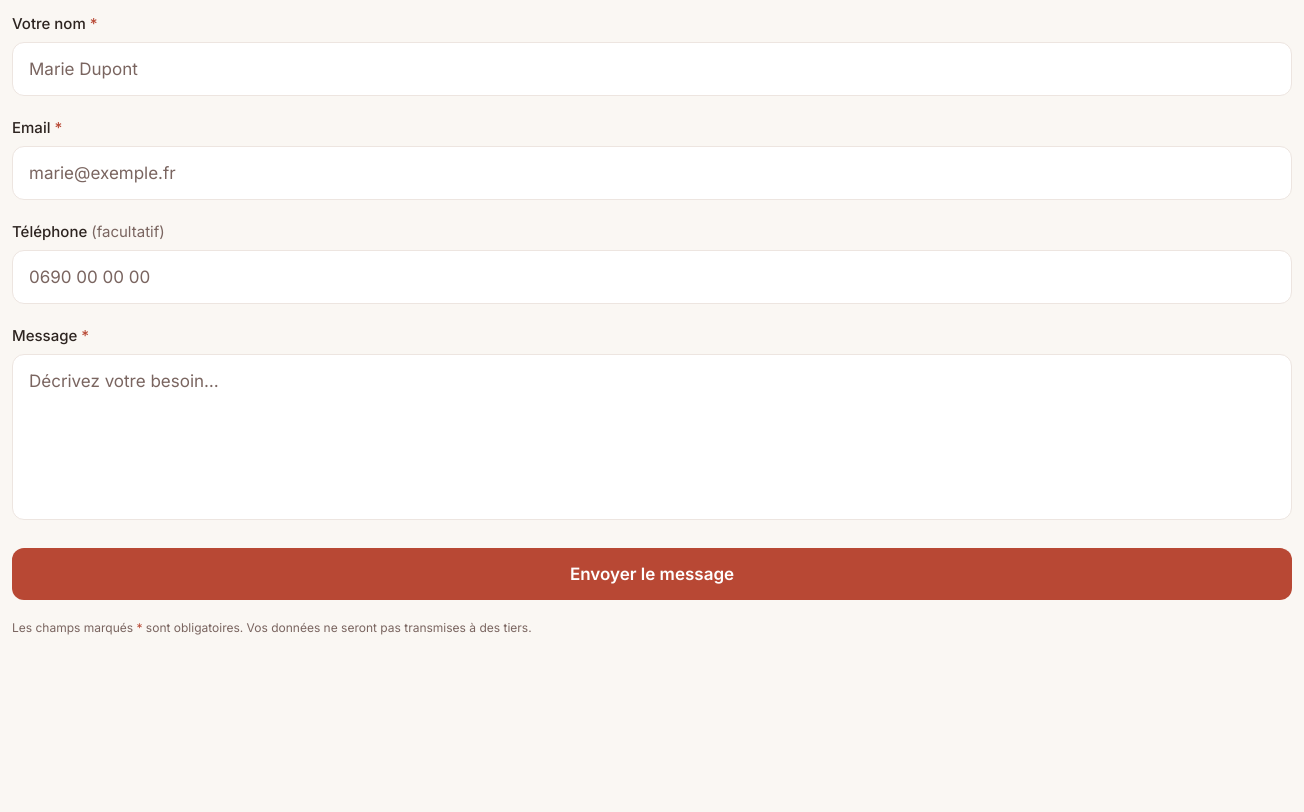
Test: ContactForm — validation côté client › affiche les erreurs si on soumet le formulaire vide
The width and height of the screenshot is (1304, 812).
Click the button "Envoyer le message".
click(652, 574)  # box [12, 548, 1292, 600]
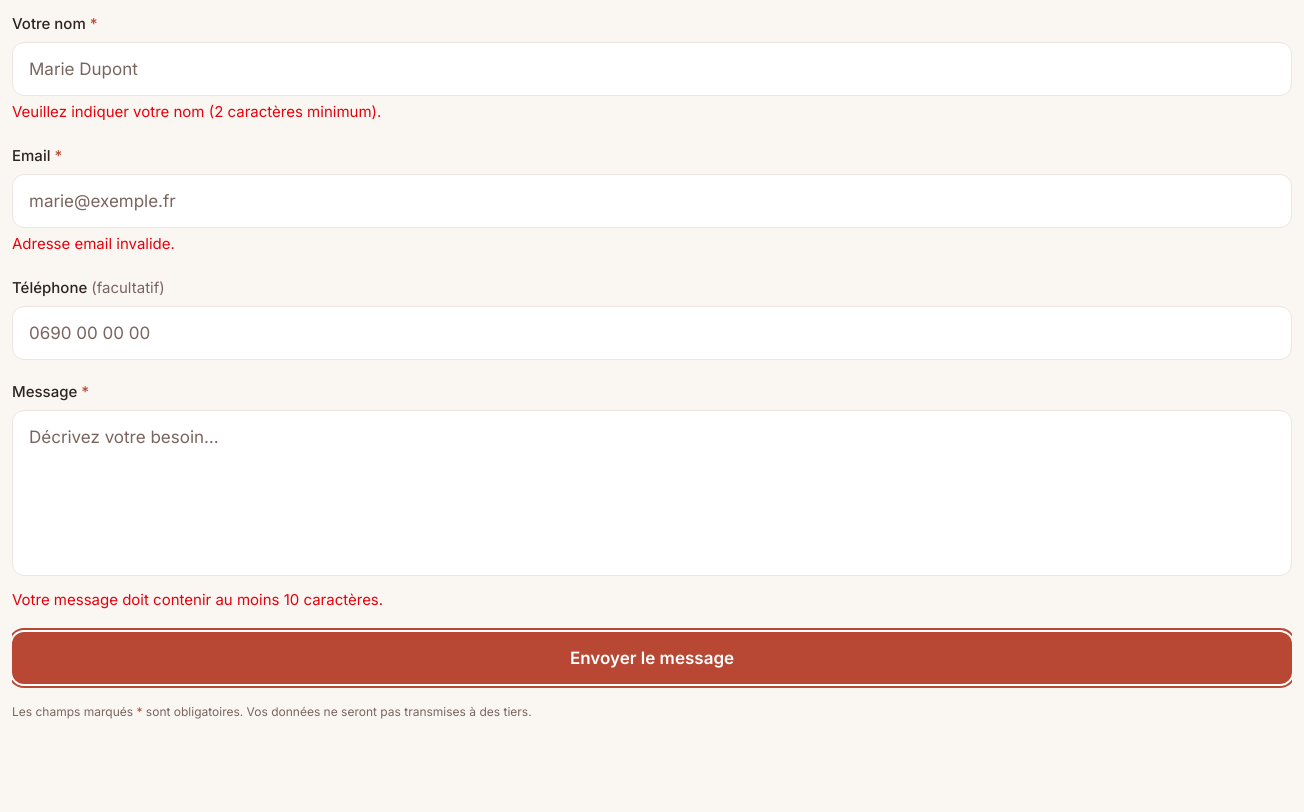
Now the text "Veuillez indiquer votre nom (2 caractères minimum)." is shown, box [12, 102, 381, 121]
Now the text "Adresse email invalide." is shown, box [12, 234, 175, 253]
Now the text "Votre message doit contenir au moins 10 caractères." is shown, box [12, 590, 383, 609]
